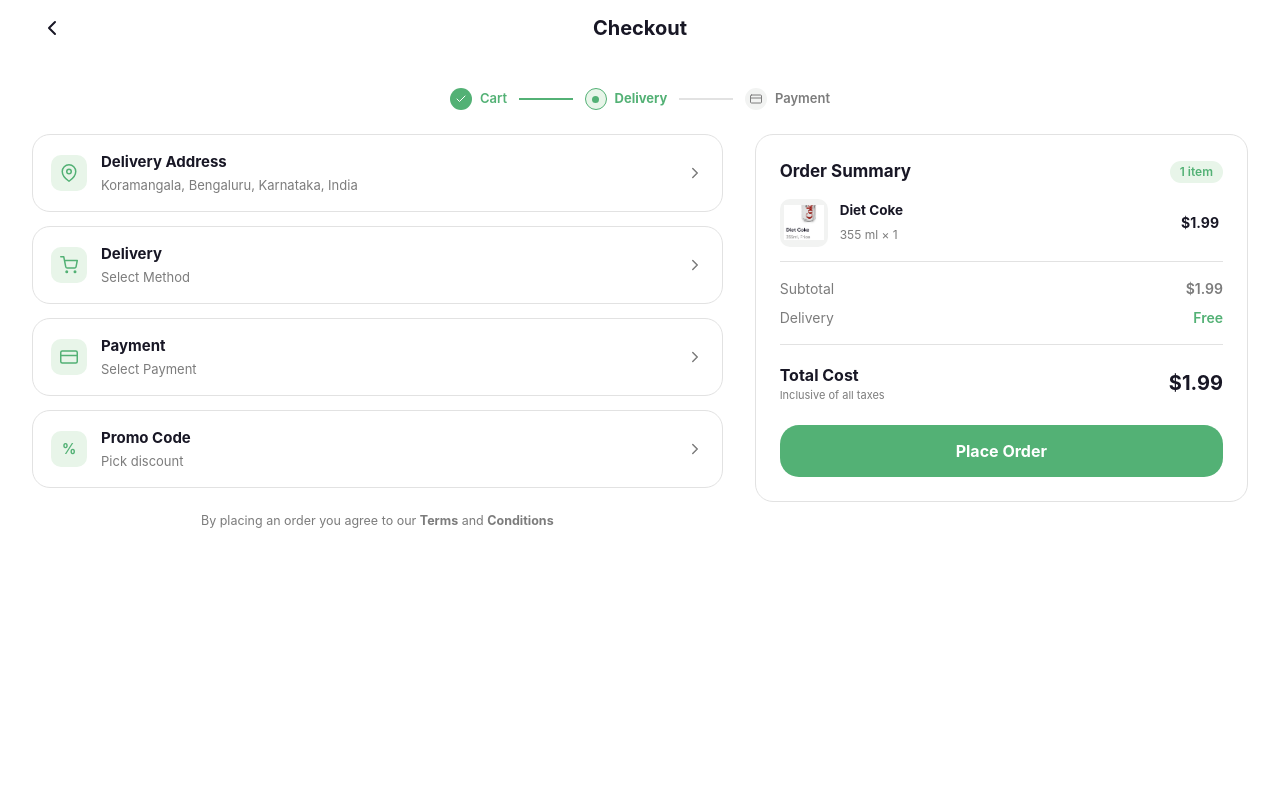
Test: CheckoutPage › shows error for invalid promo code
Click the text "Pick discount" at (146, 461), box [101, 452, 191, 471]
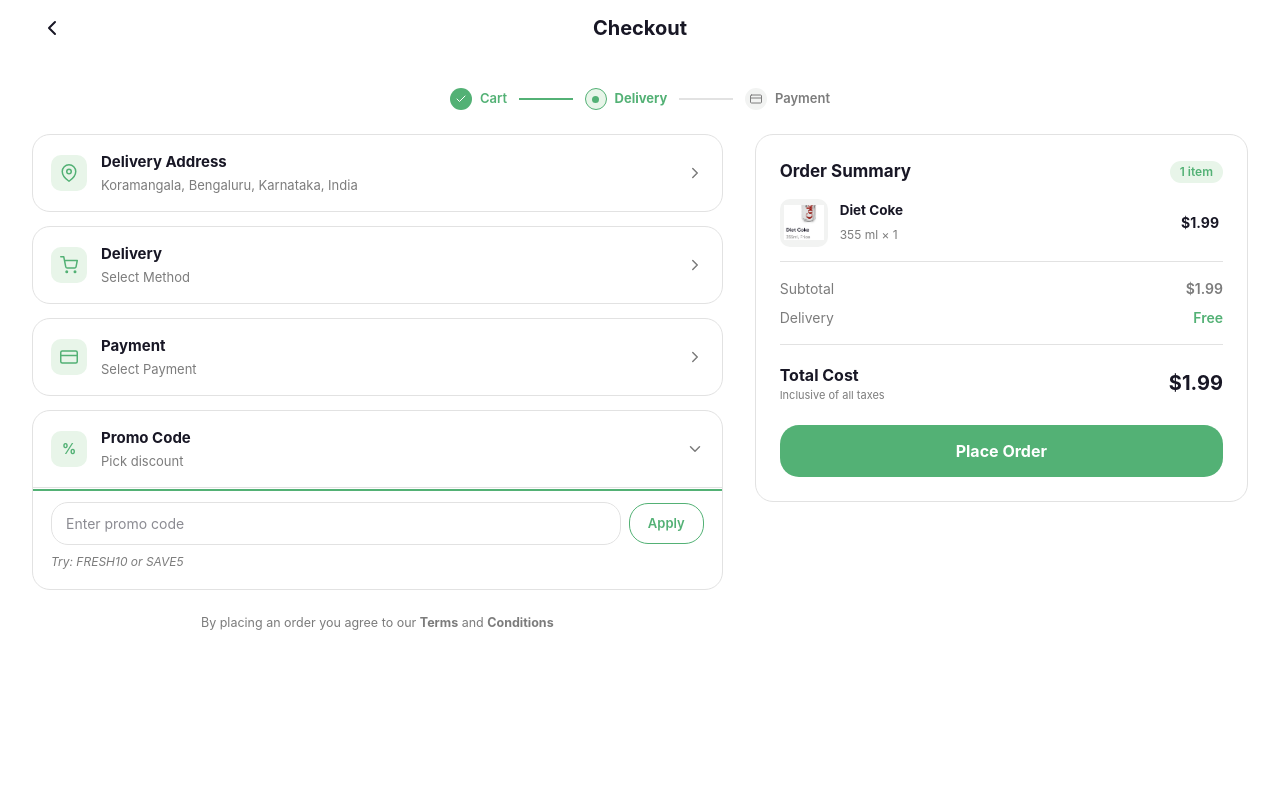
Type "BADCODE" into the field with placeholder "Enter promo code" at (336, 524), box [51, 502, 621, 545]
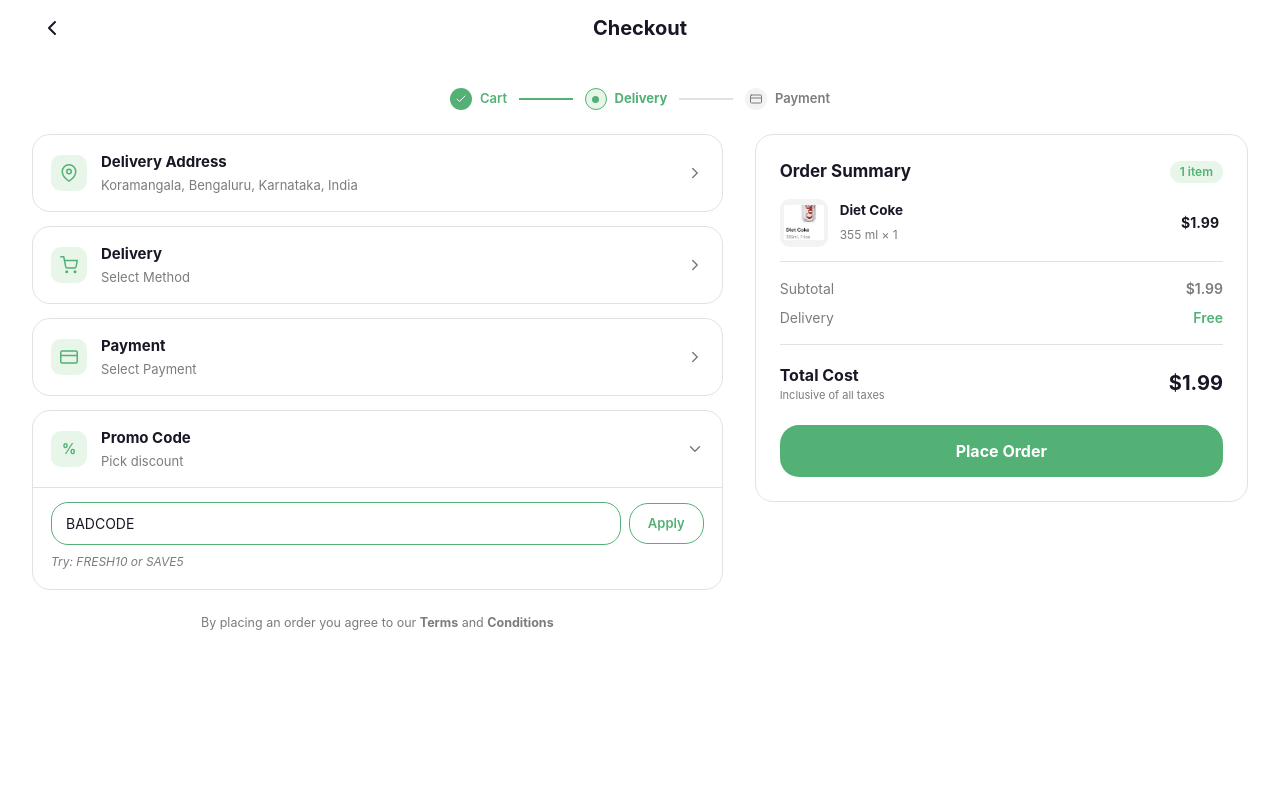
Click the button "Apply" at (666, 524), box [629, 503, 704, 544]
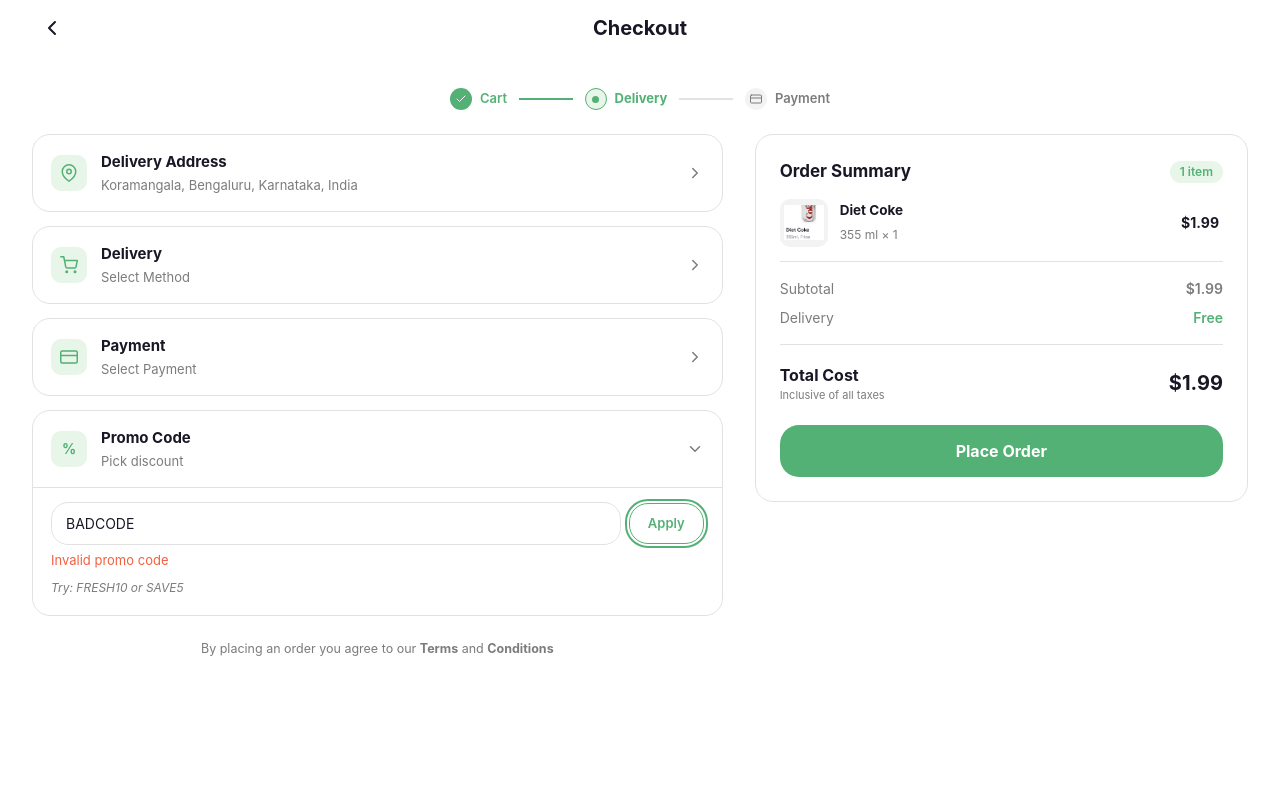
Now the text "Invalid promo code" is shown, box [51, 552, 168, 568]
